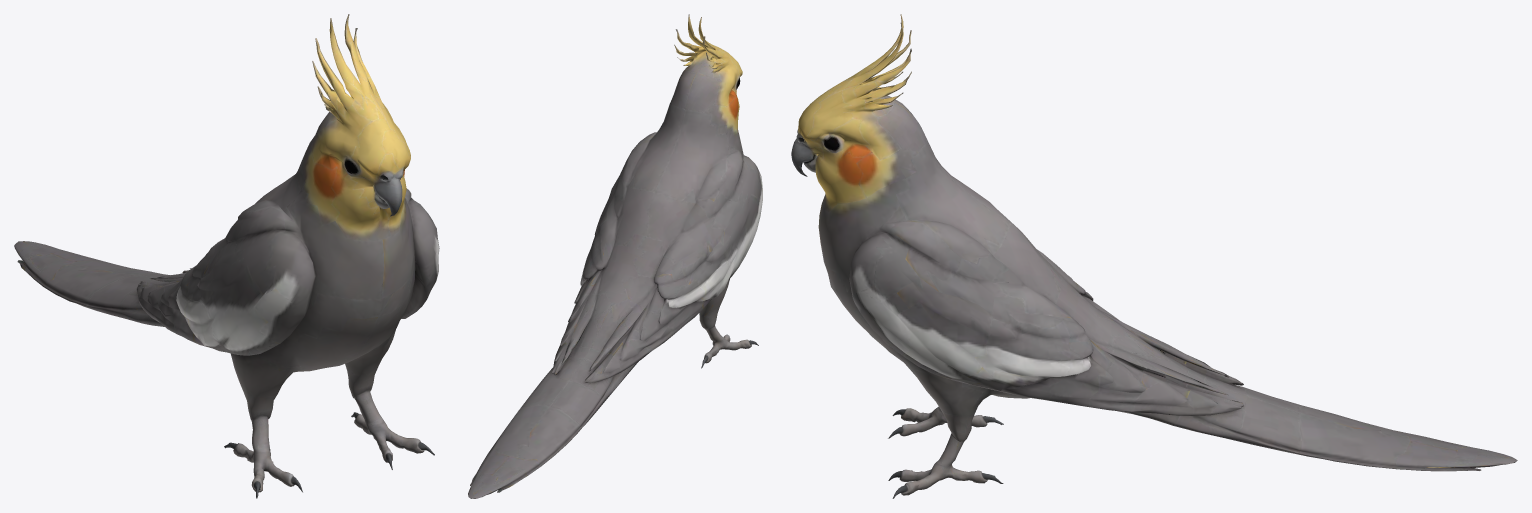
The model's file is cockatiel-oo.glb.
3 renders of one model, left to right at view 1: azimuth 30°, elevation 25°; view 2: azimuth 150°, elevation 25°; view 3: azimuth 270°, elevation 25°, orthographic. The views are drawn at different scales.
Visible parts, largest first — view 1: geometry_0; view 2: geometry_0; view 3: geometry_0.
Part boxes in pixels (x1,y1,x2,y2): geometry_0: (14, 14, 439, 498); geometry_0: (468, 14, 762, 498); geometry_0: (791, 14, 1517, 498).
Size of the model in its own units: 0.2749 by 0.6421 by 0.9565.
1 material, 1 textured.
